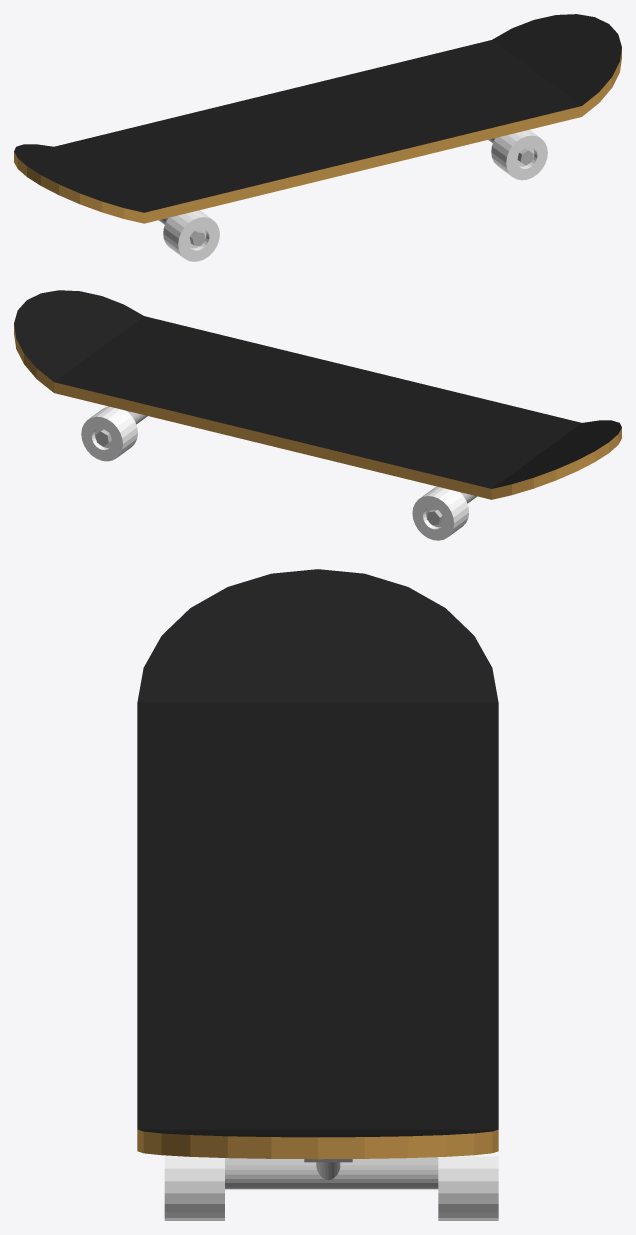
Rendered from Skateboard_01.FBX.
The picture shows the model from 3 angles, top to bottom: view 1: azimuth 30°, elevation 25°; view 2: azimuth 150°, elevation 25°; view 3: azimuth 270°, elevation 25°; orthographic projection. The views are drawn at different scales.
Parts seen in each view (by area): view 1: Skateboard_01; view 2: Skateboard_01; view 3: Skateboard_01.
Boxes of the visible parts, x1,y1,x2,y2 form: Skateboard_01: (14,14,621,261); Skateboard_01: (14,290,621,540); Skateboard_01: (137,569,498,1220).
Bounding box in the file's own units: 1059 × 171 × 284.
